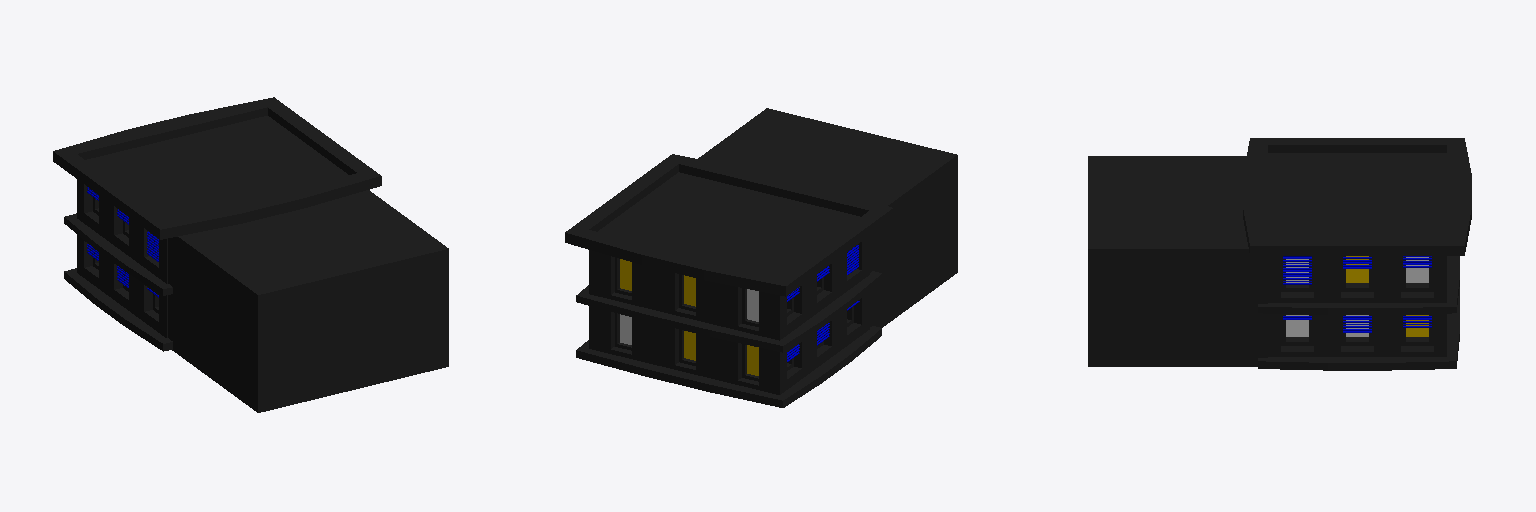
The model's file is stackable-apartment.obj.
3 renders of one model, left to right at view 1: azimuth 30°, elevation 25°; view 2: azimuth 150°, elevation 25°; view 3: azimuth 270°, elevation 25°, orthographic.
Visible parts, largest first — view 1: ApartmentBuildingBack.004_Cube.101, Cube.063_Cube.100; view 2: Cube.063_Cube.100, ApartmentBuildingBack.004_Cube.101; view 3: Cube.063_Cube.100, ApartmentBuildingBack.004_Cube.101, Vert.253_Vert.275.
Part boxes in pixels (left/top/right/bottom): ApartmentBuildingBack.004_Cube.101: left=168, top=190, right=448, bottom=412; Cube.063_Cube.100: left=53, top=97, right=381, bottom=351; Cube.063_Cube.100: left=565, top=154, right=893, bottom=407; ApartmentBuildingBack.004_Cube.101: left=698, top=108, right=957, bottom=327; Cube.063_Cube.100: left=1243, top=138, right=1471, bottom=370; ApartmentBuildingBack.004_Cube.101: left=1088, top=156, right=1267, bottom=366; Vert.253_Vert.275: left=1283, top=256, right=1311, bottom=284.
Bounding box in the file's own units: 13.49 × 7.47 × 20.29.